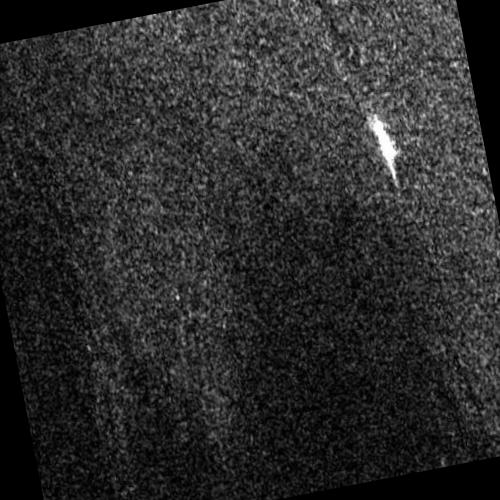ship: (371, 118, 398, 180)
